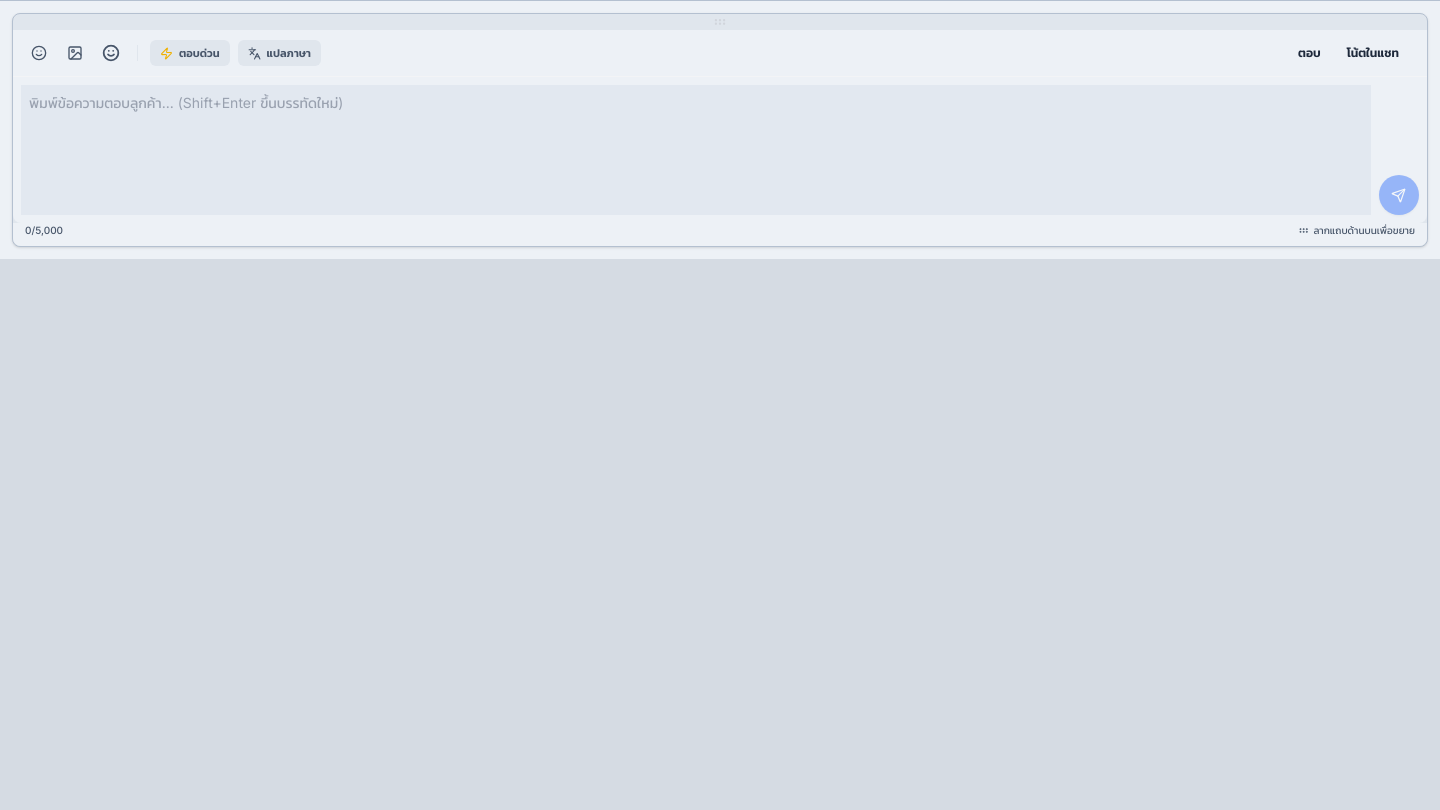
Test: [FEAT-20260918-AUTOSENDCONFIRM] the switch is ON — the first press asks › 🔴 sends NOTHING and spends NOTHING on the first press
Type "ยอดเข้าแล้วครับ" into the text box with placeholder "พิมพ์ข้อความตอบลูกค้า... (Shift+Enter ขึ้นบรรทัดใหม่)".
click(696, 150); type("ยอดเข้าแล้วครับ")  # box [21,85,1371,215]
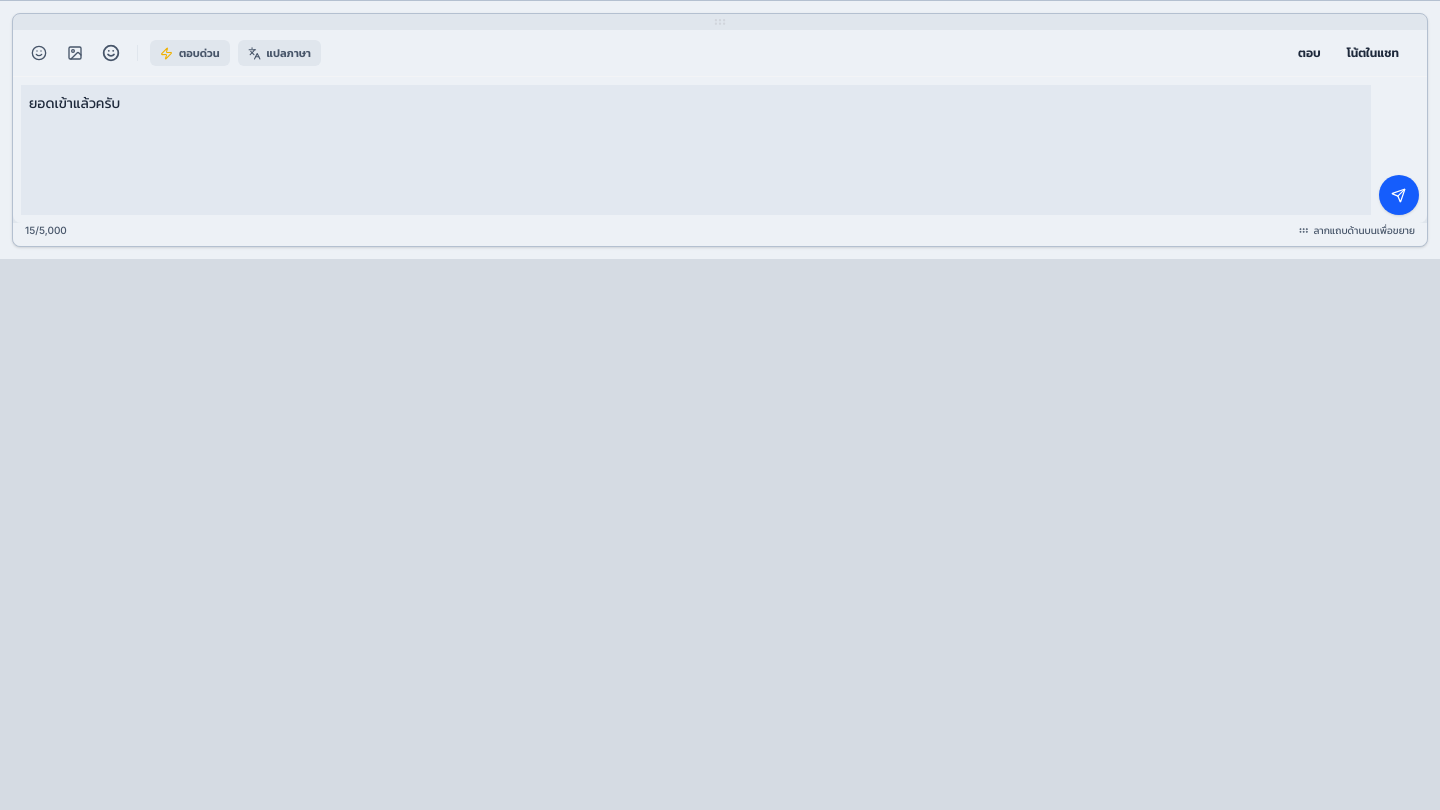
Click the button titled "ส่งถึงลูกค้า".
click(1399, 195)  # box [1379,175,1419,215]
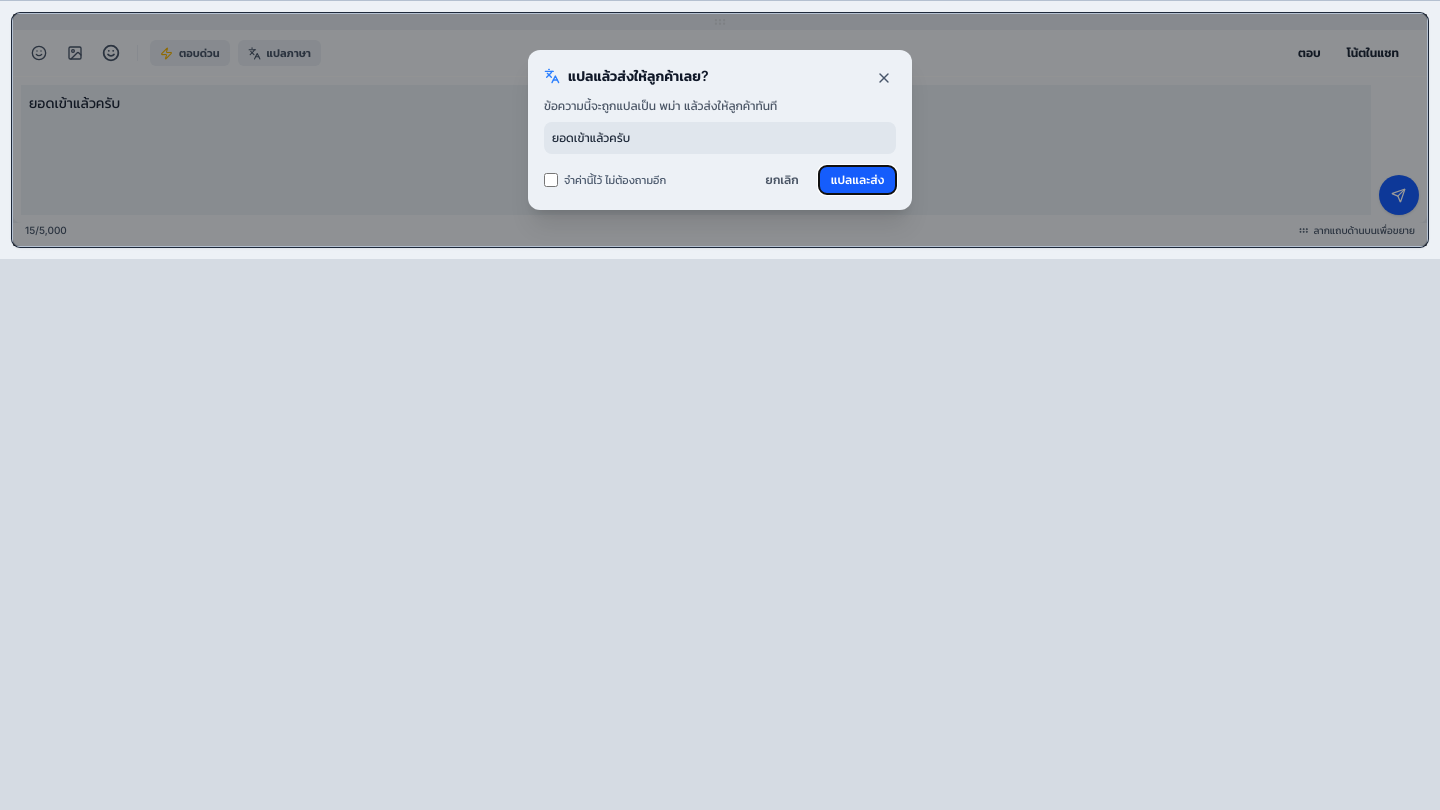
Expected: the dialog with test id "auto-send-confirm" is shown, [13,14,1427,246]
